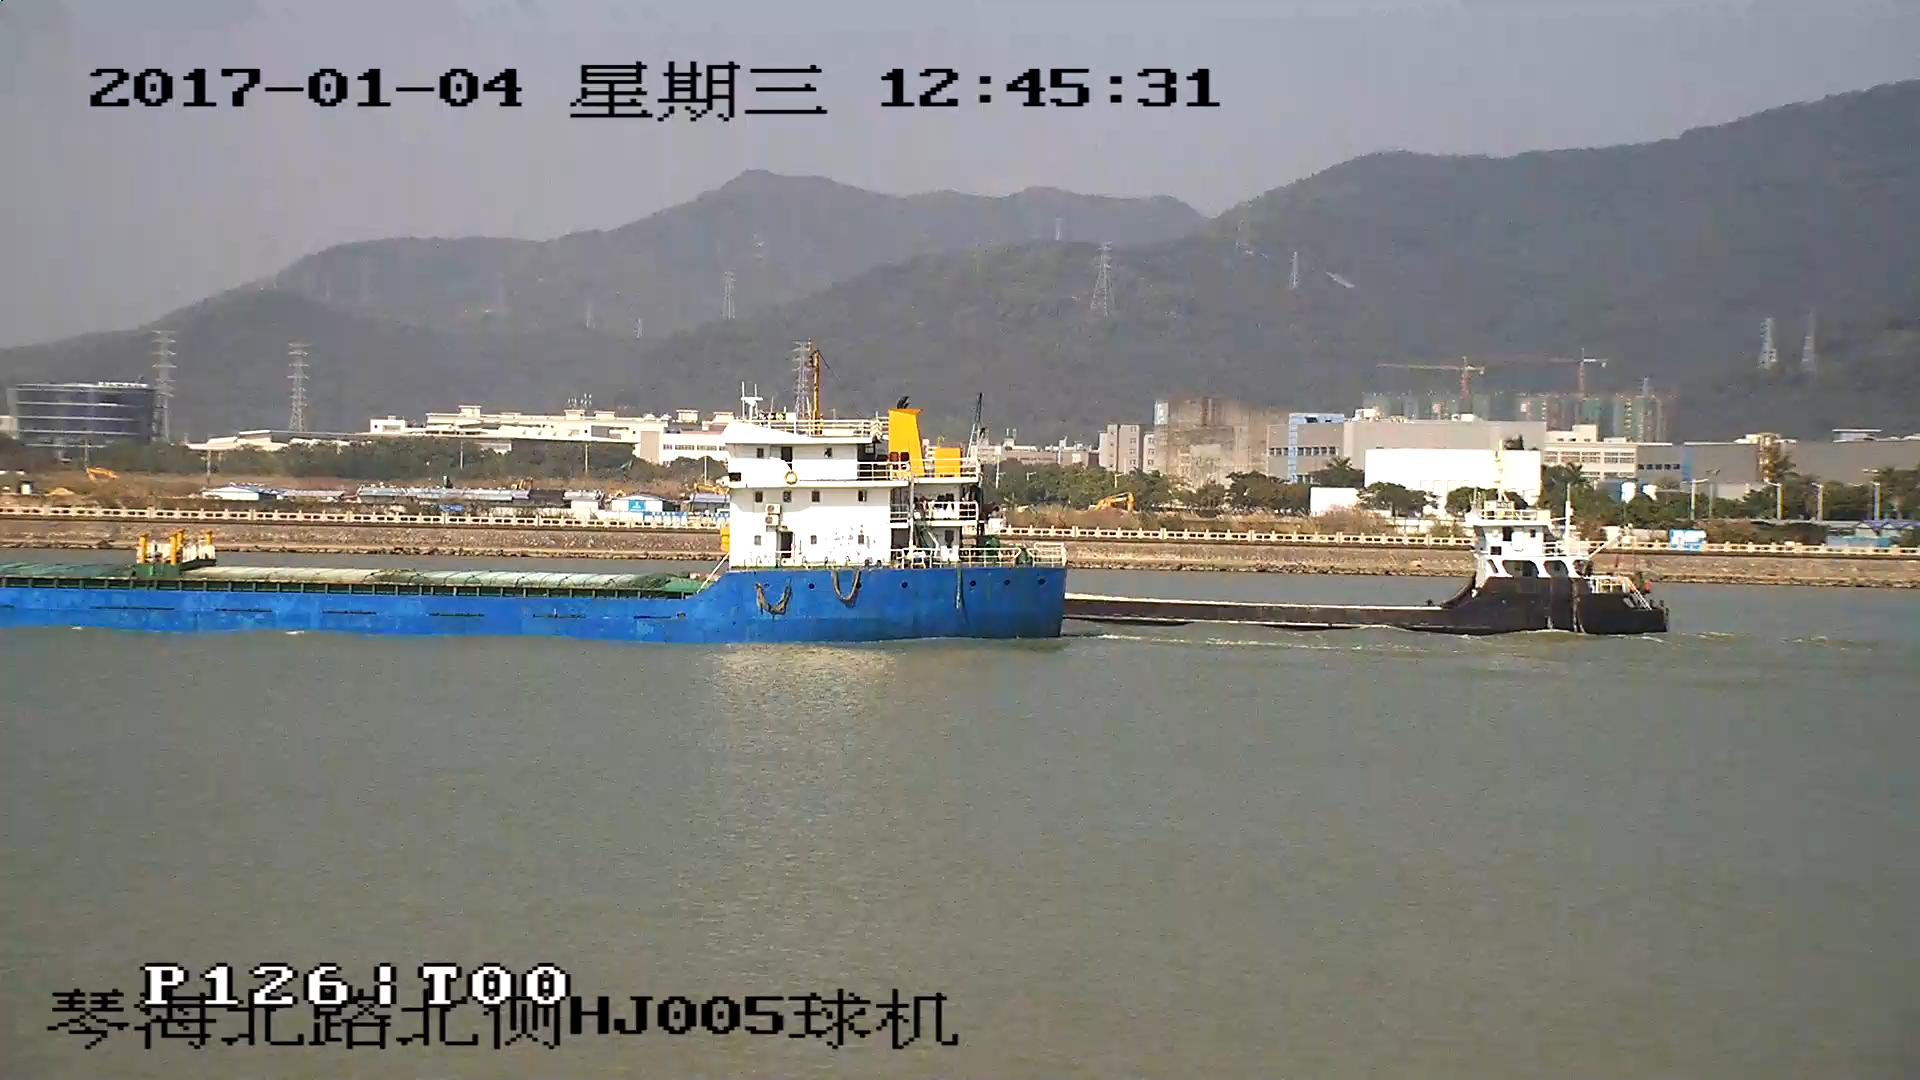general cargo ship: (1, 416, 1065, 639), (1067, 499, 1665, 635)
